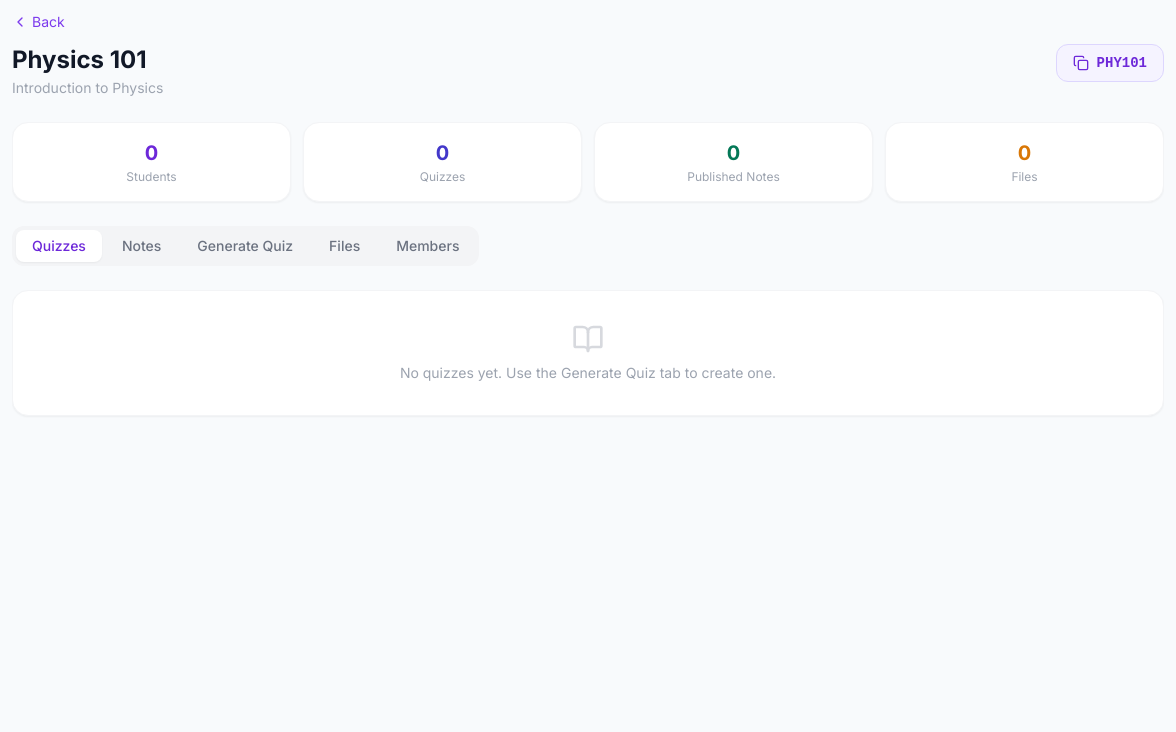
Test: ClassView - FEAT-002 › displays empty state when no members enrolled
Expected: the heading "Physics 101" is shown, [12,44,163,76]
Click on Members tab
Click the button "Members" at (428, 246), box [380,230,476,262]
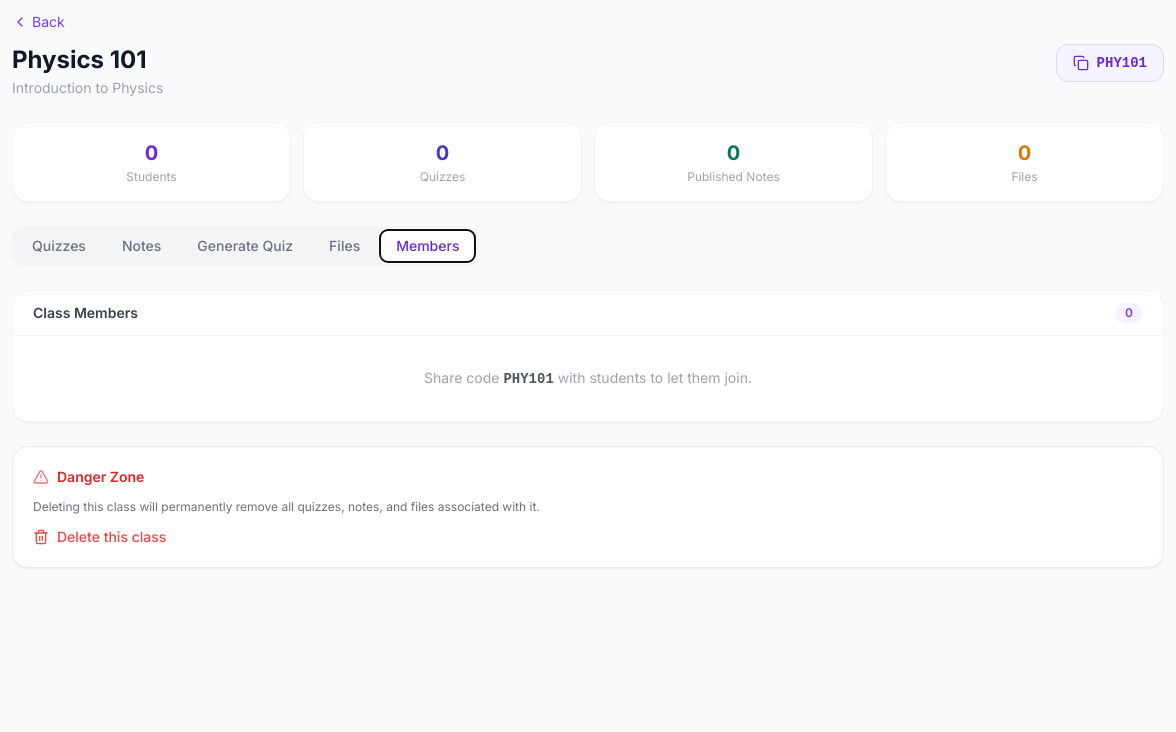
Expected: the text "Share code PHY101 with students to let them join." is shown, [424,369,752,387]
